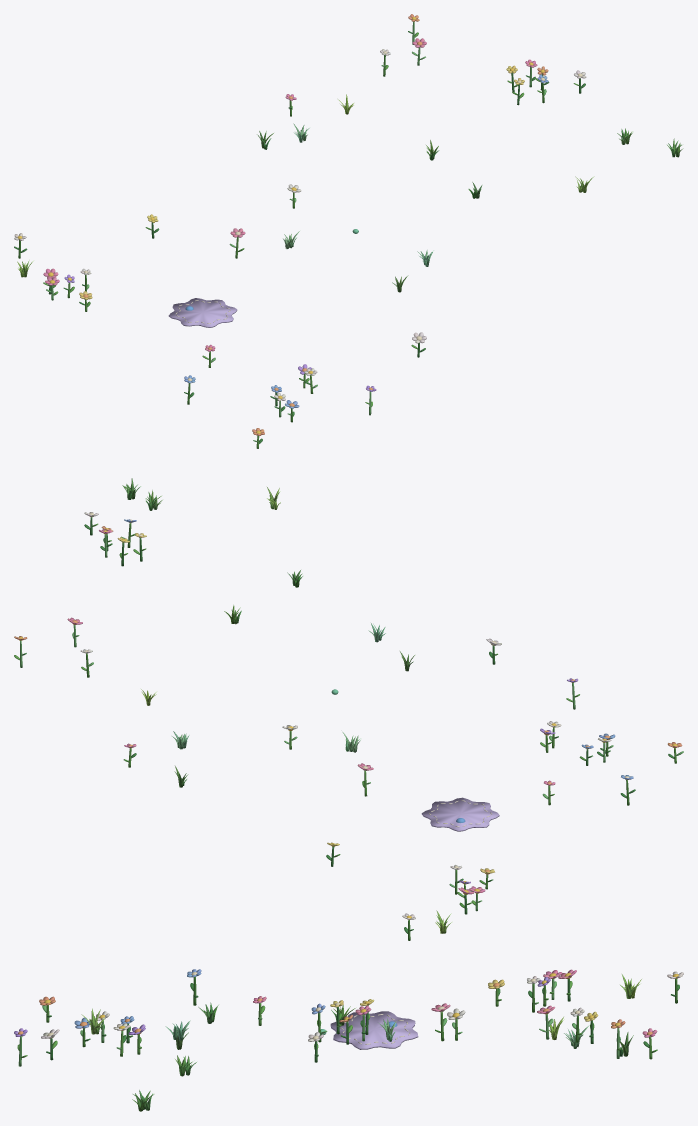
The model's file is W3_FloraRing_8_9.fbx.
3 renders of one model, top to bottom at view 1: azimuth 30°, elevation 25°; view 2: azimuth 150°, elevation 25°; view 3: azimuth 270°, elevation 25°, orthographic. The views are drawn at different scales.
Visible parts, largest first — view 1: W3_FloraRing_8_9; view 2: W3_FloraRing_8_9; view 3: W3_FloraRing_8_9.
Boxes of the visible parts, <box> form: W3_FloraRing_8_9: <box>14,14,683,448</box>; W3_FloraRing_8_9: <box>14,478,683,940</box>; W3_FloraRing_8_9: <box>14,969,683,1111</box>.
Size of the model in its own units: 3.91 by 1.58 by 3.59.
